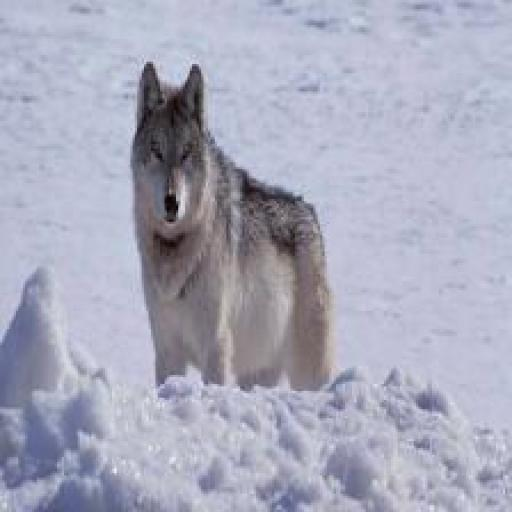wolf: (116, 57, 351, 424)
